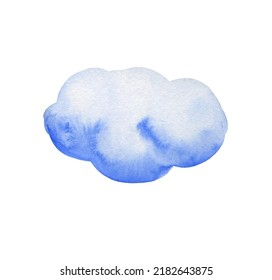cloud: (42, 66, 231, 184)
